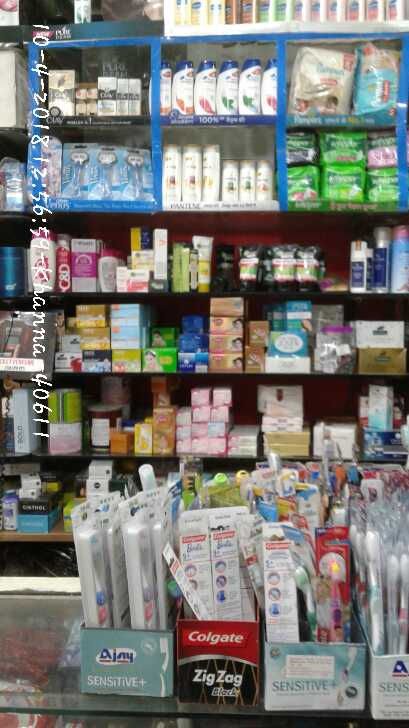venus: (63, 142, 93, 204), (120, 146, 150, 201), (95, 142, 118, 203)
